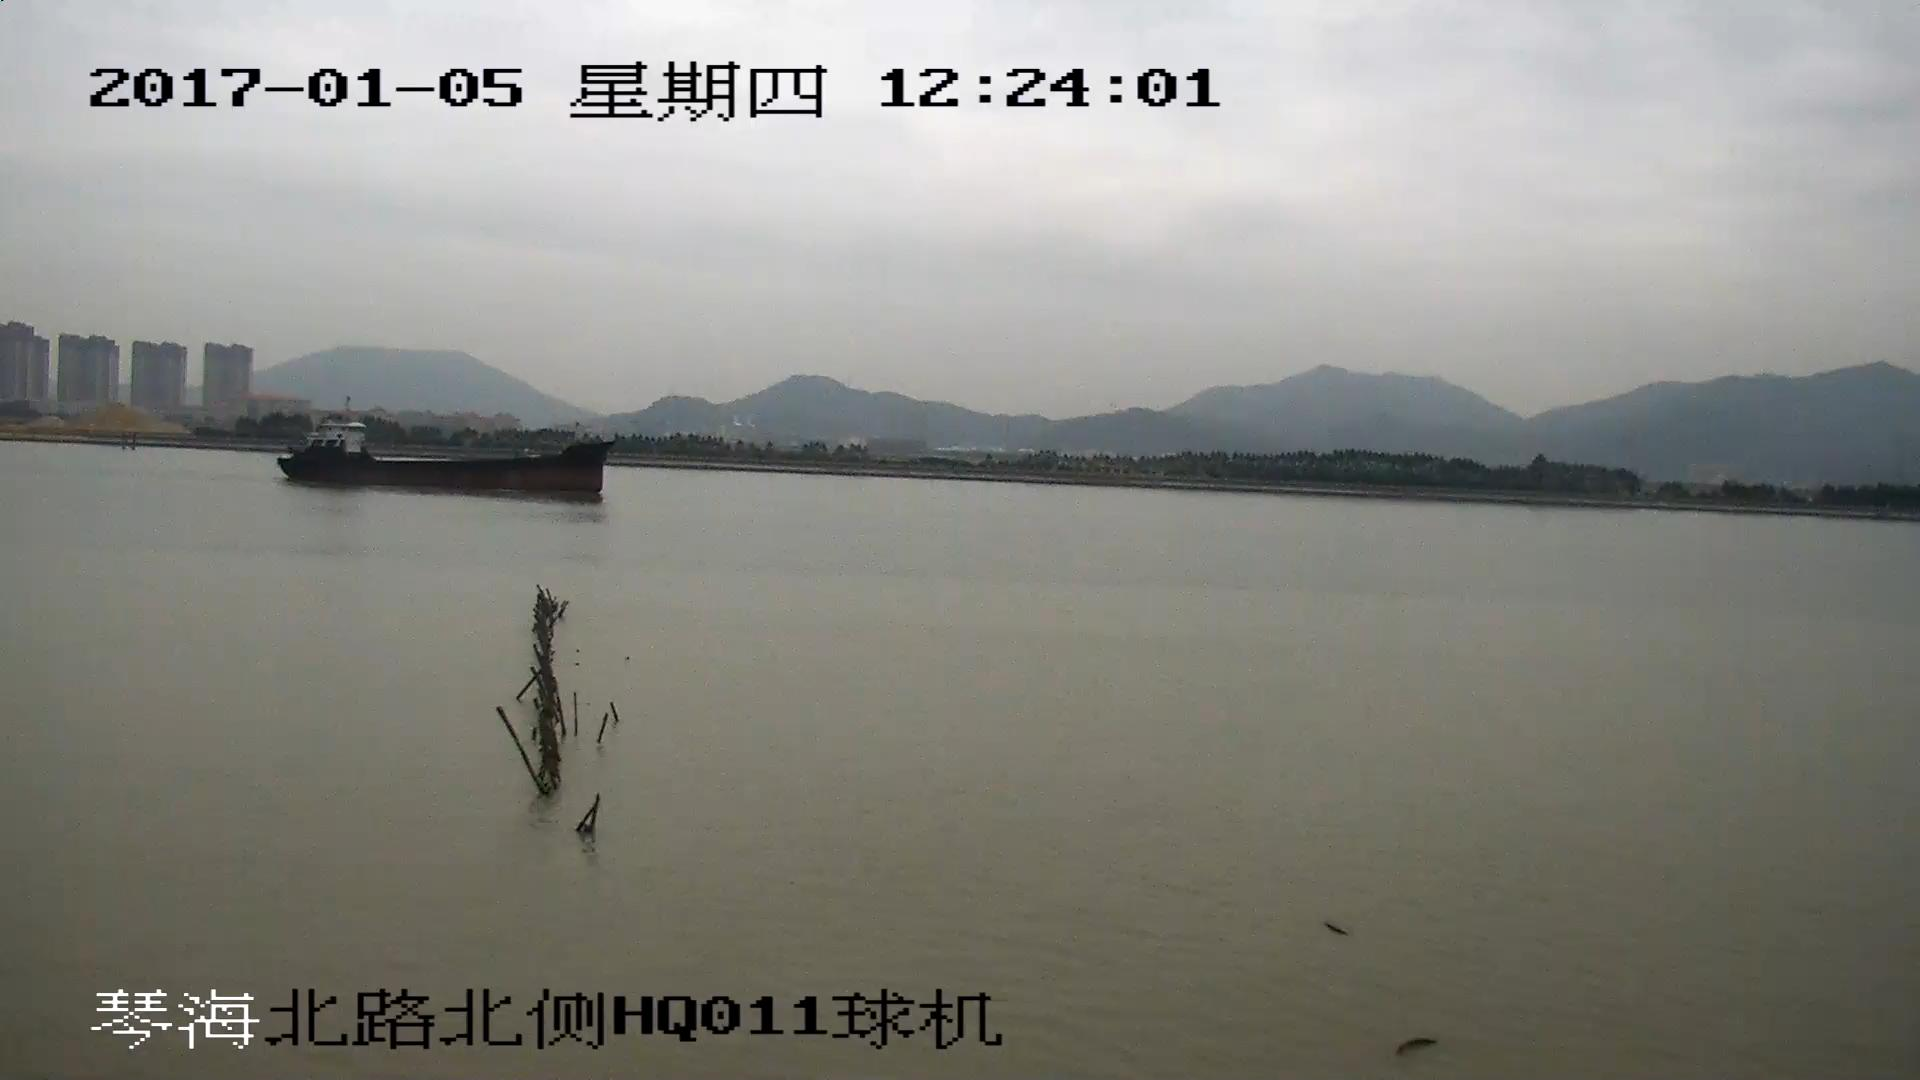general cargo ship: (278, 420, 614, 496)
